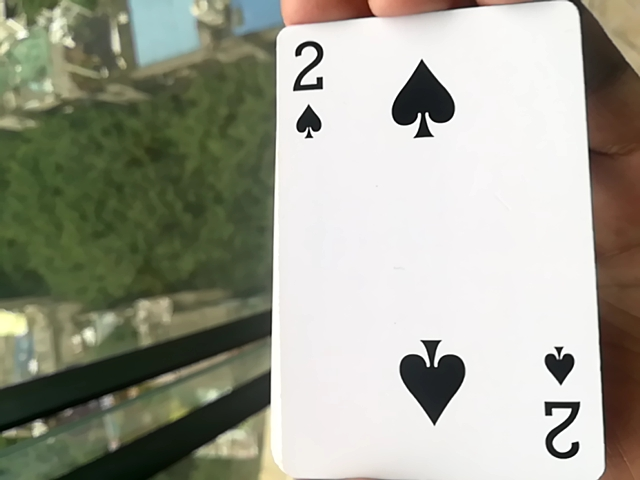ht 2: (252, 5, 615, 480)
